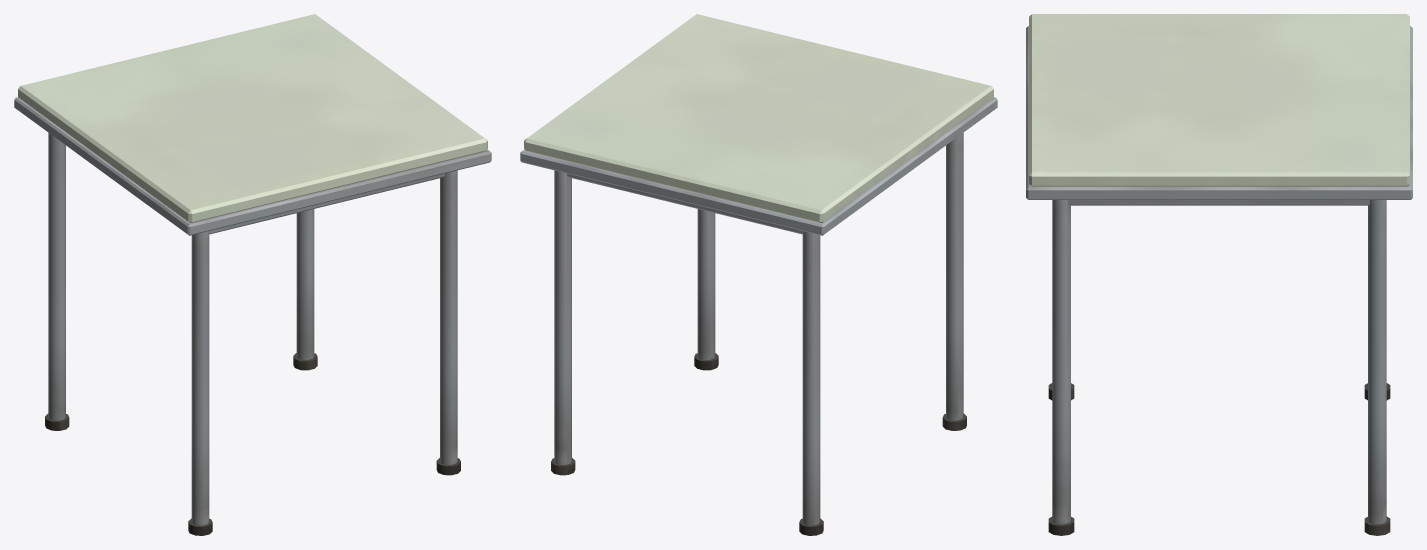
Rendered from table_square.glb.
The picture shows the model from 3 angles, left to right: view 1: azimuth 30°, elevation 25°; view 2: azimuth 150°, elevation 25°; view 3: azimuth 270°, elevation 25°; orthographic projection. The views are drawn at different scales.
Parts seen in each view (by area): view 1: table_square; view 2: table_square; view 3: table_square.
Boxes of the visible parts, left/top/right/bottom form: table_square: left=14, top=14, right=491, bottom=535; table_square: left=520, top=14, right=997, bottom=535; table_square: left=1026, top=14, right=1412, bottom=535.
Bounding box in the file's own units: 0.71 × 0.75 × 0.71.
3 materials, 3 textured.
